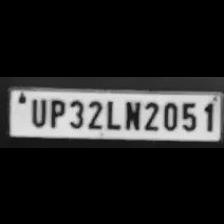0: (160, 98, 178, 130)
1: (198, 98, 218, 132)
2: (84, 96, 104, 130), (140, 97, 160, 130)
3: (65, 95, 84, 127)
5: (178, 97, 198, 130)
L: (103, 96, 120, 130)
N: (120, 98, 140, 130)
P: (45, 95, 65, 127)
U: (25, 96, 47, 127)
